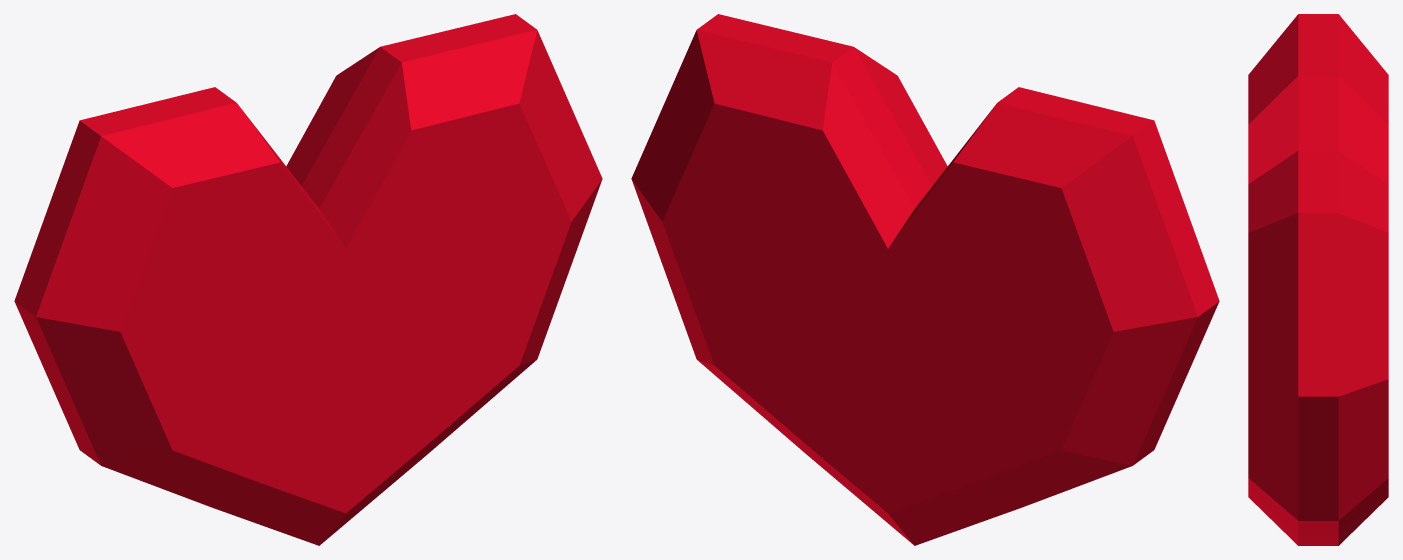
File: DebugHeart.glb
3 renders of one model, left to right at view 1: azimuth 30°, elevation 25°; view 2: azimuth 150°, elevation 25°; view 3: azimuth 270°, elevation 25°, orthographic. The views are drawn at different scales.
Visible parts, largest first — view 1: Circle.001; view 2: Circle.001; view 3: Circle.001.
Part boxes in pixels (x1,y1,x2,y2): Circle.001: (14, 14, 602, 545); Circle.001: (631, 14, 1219, 545); Circle.001: (1248, 14, 1388, 545).
Bounding box in the file's own units: 0.5144 × 0.4019 × 0.1179.
